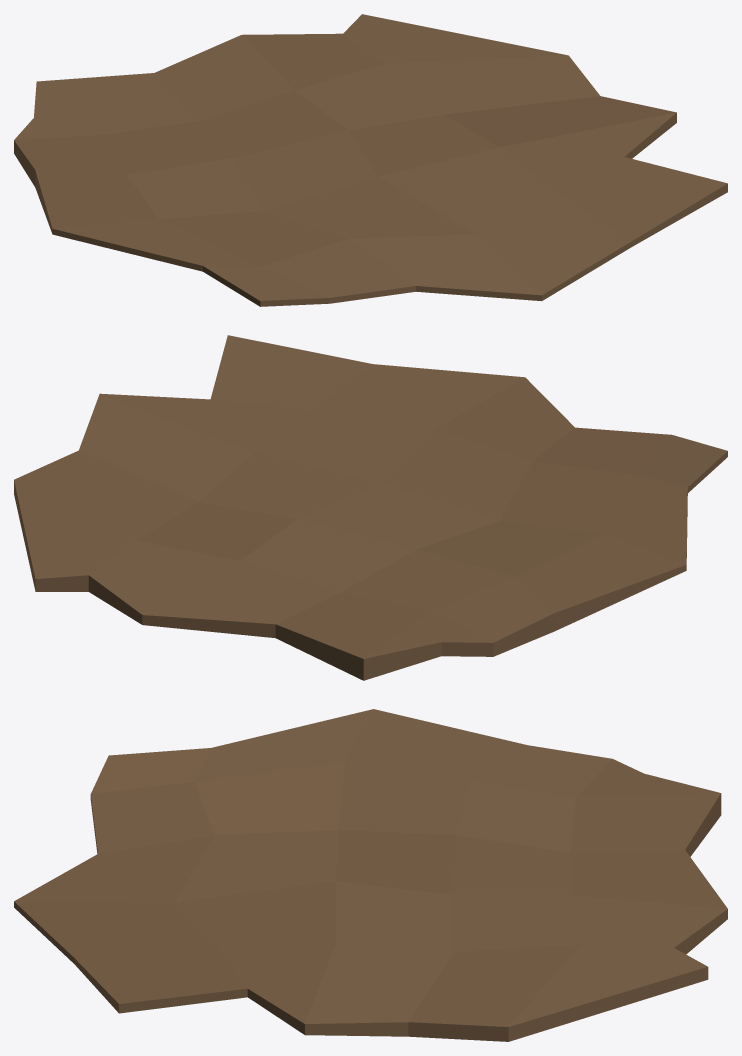
The model's file is Floting Base_2.fbx.
The picture shows the model from 3 angles, top to bottom: view 1: azimuth 30°, elevation 25°; view 2: azimuth 150°, elevation 25°; view 3: azimuth 270°, elevation 25°; orthographic projection. The views are drawn at different scales.
Visible parts, largest first — view 1: M_Floting Base 2; view 2: M_Floting Base 2; view 3: M_Floting Base 2.
Boxes of the visible parts, <box> form: M_Floting Base 2: <box>14,14,727,306</box>; M_Floting Base 2: <box>14,335,727,680</box>; M_Floting Base 2: <box>14,709,727,1041</box>.
Size of the model in its own units: 332 by 16.37 by 324.
Materials: 1 (1 with a texture image).
